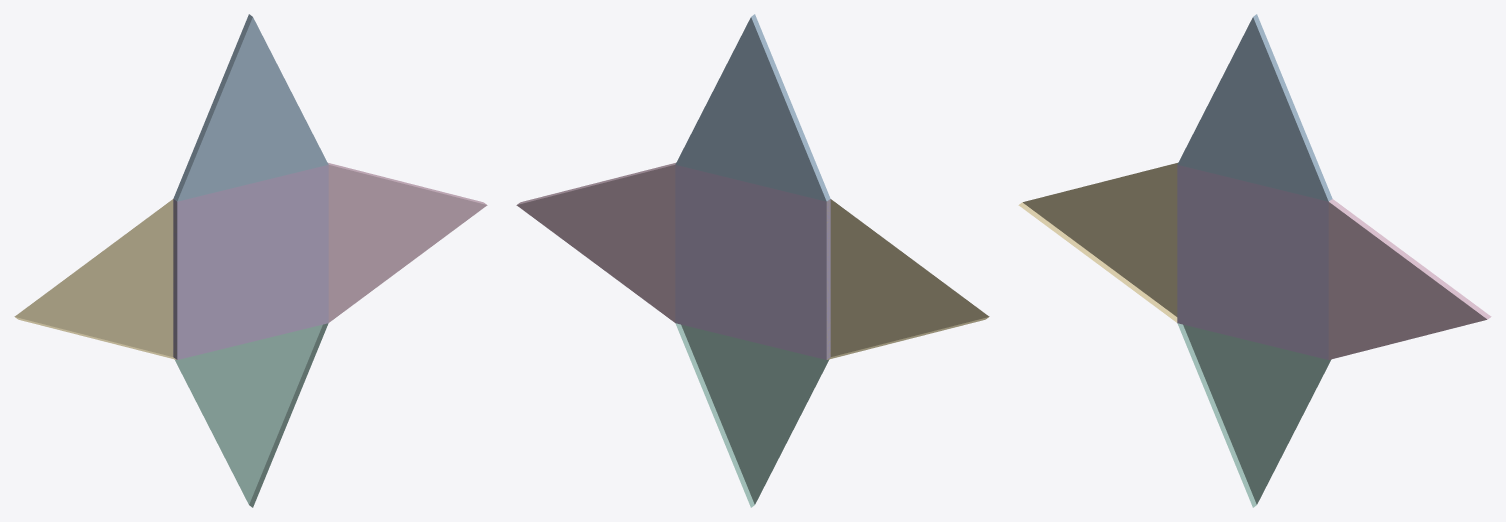
Rendered from jaring-limas.glb.
The picture shows the model from 3 angles, left to right: view 1: azimuth 30°, elevation 25°; view 2: azimuth 150°, elevation 25°; view 3: azimuth 330°, elevation 25°; orthographic projection.
Visible parts, largest first — view 1: jaring-limas_0, jaring-limas_1, jaring-limas_4, jaring-limas_3, jaring-limas_2; view 2: jaring-limas_0, jaring-limas_1, jaring-limas_4, jaring-limas_3, jaring-limas_2; view 3: jaring-limas_0, jaring-limas_2, jaring-limas_1, jaring-limas_3, jaring-limas_4.
Part boxes in pixels (<box>): jaring-limas_0: <box>173,165,328,359</box>; jaring-limas_1: <box>173,14,328,201</box>; jaring-limas_4: <box>14,199,177,359</box>; jaring-limas_3: <box>174,323,328,507</box>; jaring-limas_2: <box>328,163,487,322</box>; jaring-limas_0: <box>675,165,830,359</box>; jaring-limas_1: <box>675,14,830,201</box>; jaring-limas_4: <box>826,199,989,359</box>; jaring-limas_3: <box>675,323,829,507</box>; jaring-limas_2: <box>516,163,675,322</box>; jaring-limas_0: <box>1177,165,1328,359</box>; jaring-limas_2: <box>1328,199,1491,359</box>; jaring-limas_1: <box>1177,14,1332,201</box>; jaring-limas_3: <box>1177,323,1331,507</box>; jaring-limas_4: <box>1018,163,1177,322</box>.
Size of the model in its own units: 3.1 by 3.1 by 0.045.
